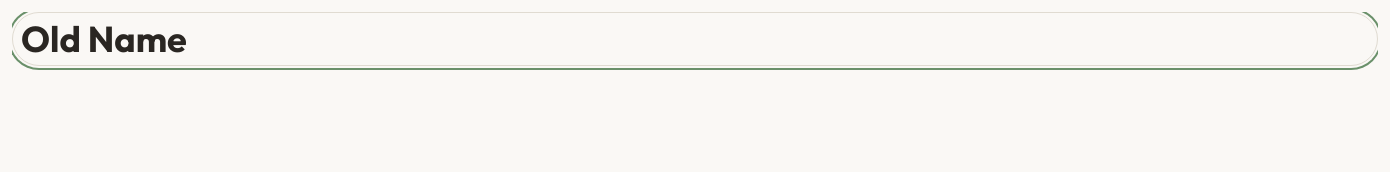
EditablePlanTitle › surfaces an inline error and keeps the input mounted when onRename rejects
Earlier steps of the test are not shown.
Replace the text in the field named "Plan title" with "A Valid But Failing Rename" at (695, 39), box [12, 12, 1378, 66]
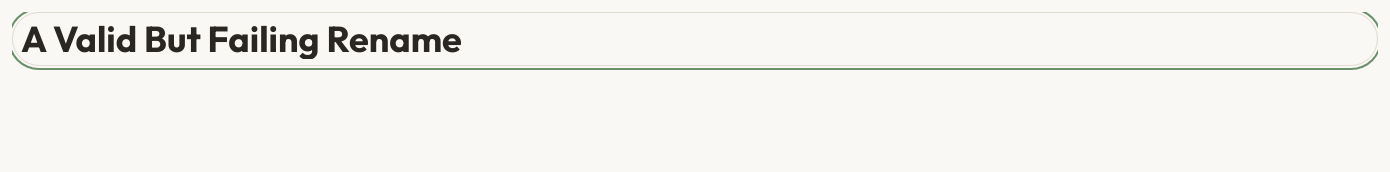
Press Enter in the field named "Plan title", box [12, 12, 1378, 66]
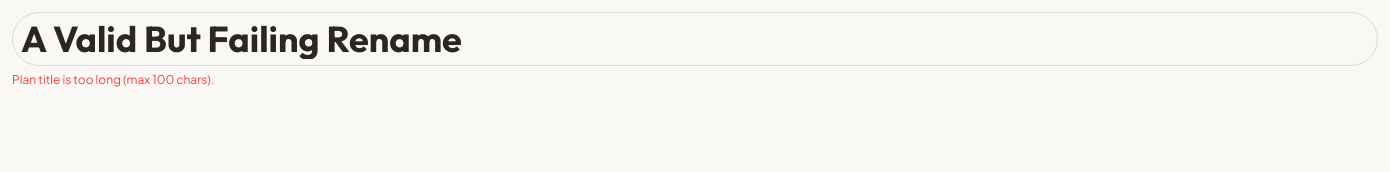
Expected: the text "Plan title is too long (max 100 chars)." is shown, [12, 72, 214, 87]
